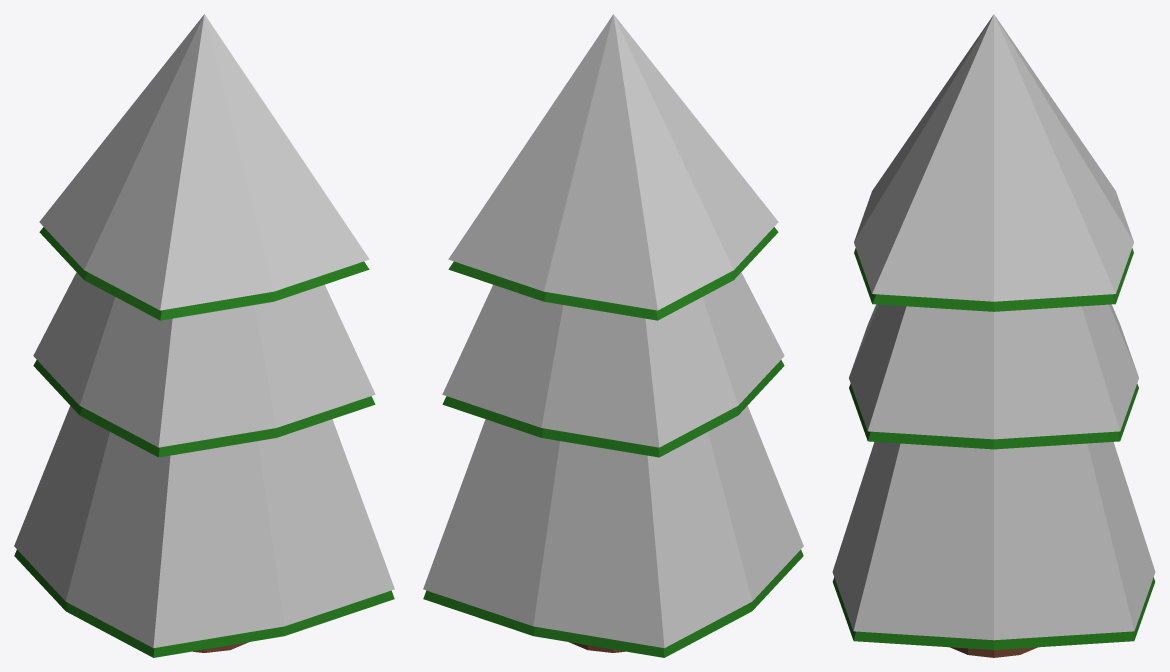
File: Tree_23_winter_vc.fbx
3 renders of one model, left to right at view 1: azimuth 30°, elevation 25°; view 2: azimuth 150°, elevation 25°; view 3: azimuth 270°, elevation 25°, orthographic.
Parts seen in each view (by area): view 1: Tree_23_winter_vc; view 2: Tree_23_winter_vc; view 3: Tree_23_winter_vc.
Boxes of the visible parts, x1,y1,x2,y2 form: Tree_23_winter_vc: (14, 14, 394, 657); Tree_23_winter_vc: (423, 14, 803, 657); Tree_23_winter_vc: (832, 14, 1155, 657).
Bounding box in the file's own units: 2.34 × 4.98 × 2.34.
